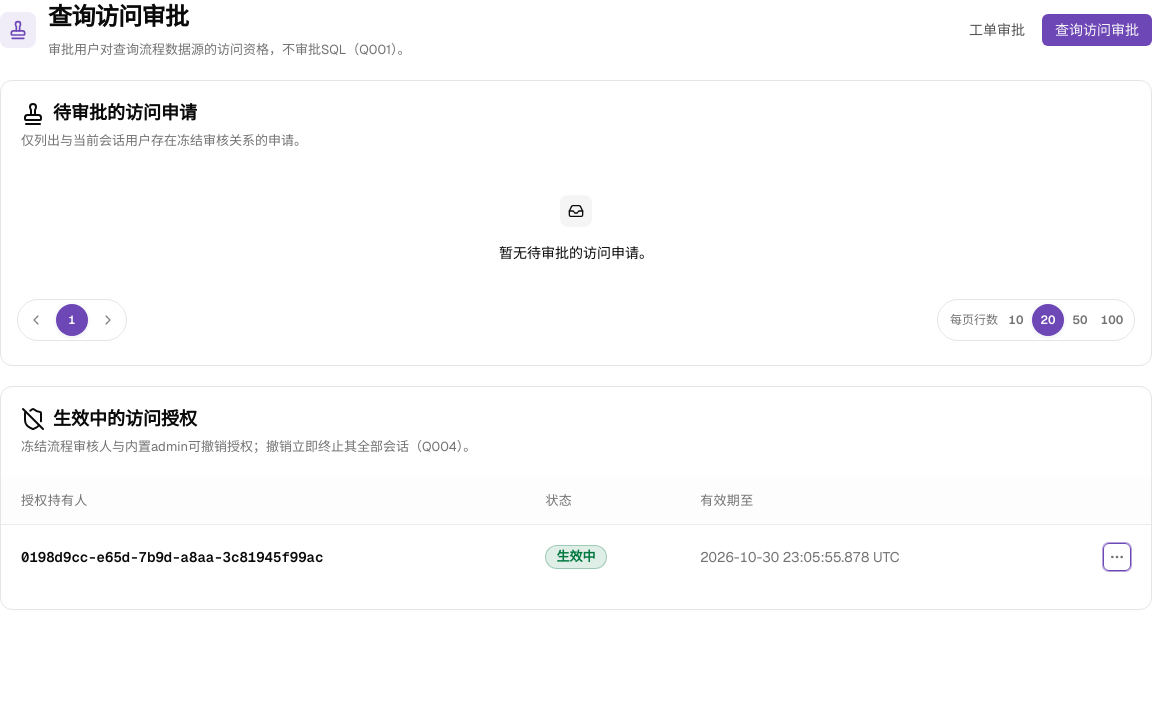
Test case: gate: admin撤销用户可感知且admin不能查看查询 › renders the reviewer revocation surface with the terminating semantics copy
Expected: the number of headings is 1, [48,1,188,32]
Press Enter
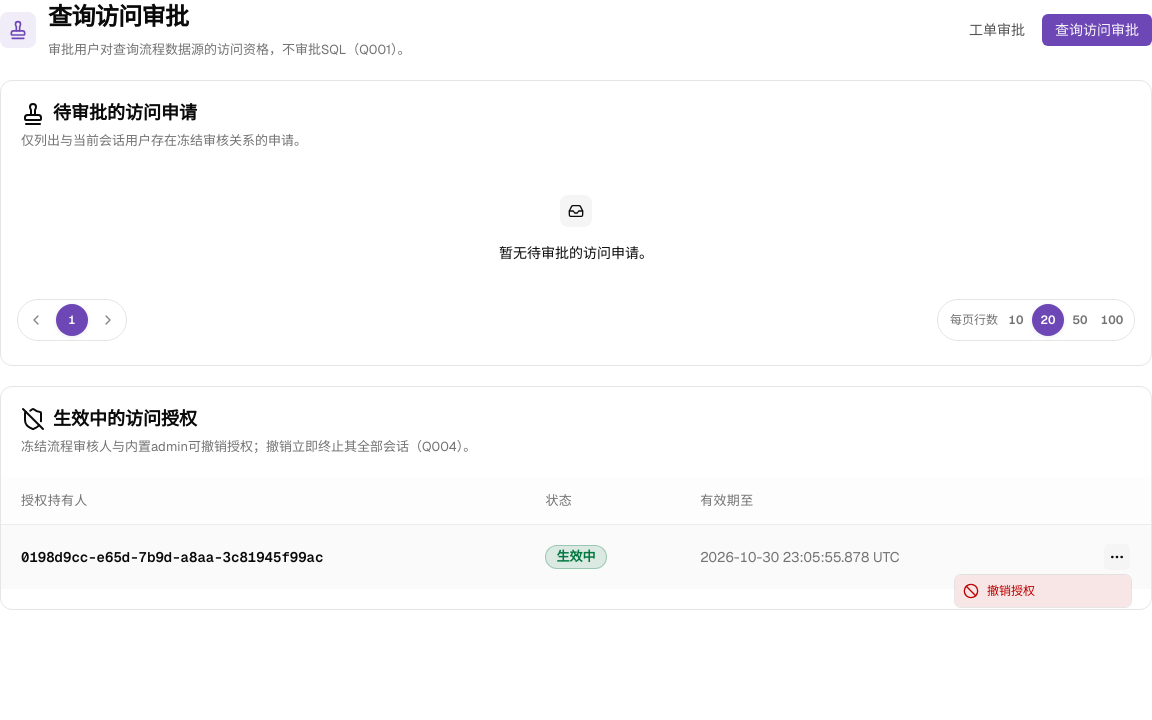
Click the menu item with test id "query-access-revoke-" at coordinates (1043, 591), box [955,575,1131,607]
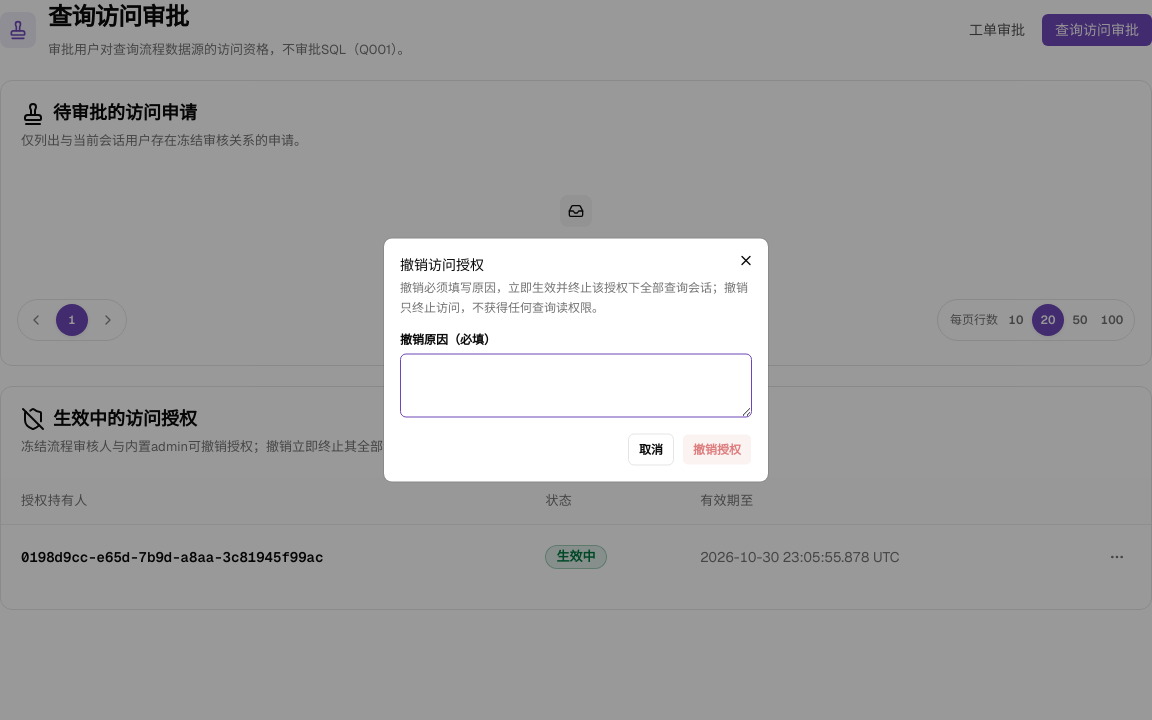
Expected: the dialog with test id "query-access-revoke-dialog" shows "终止该授权下全部查询会话", [400,280,748,315]
